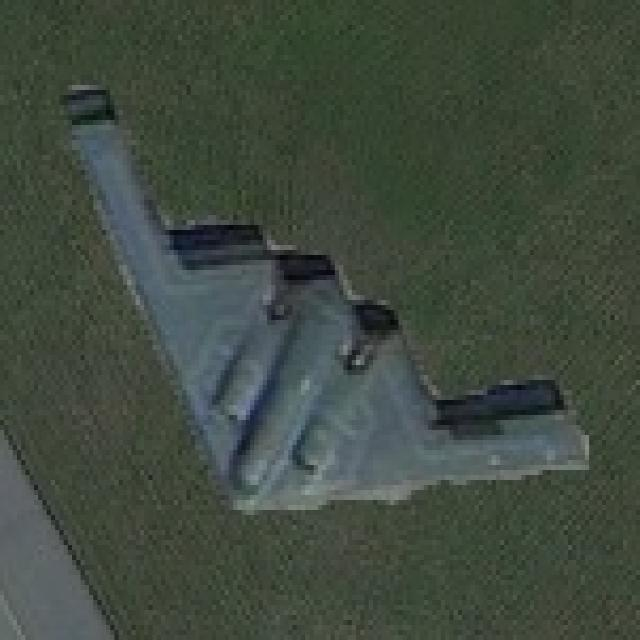B-2_TopDown: (51, 70, 593, 525)
